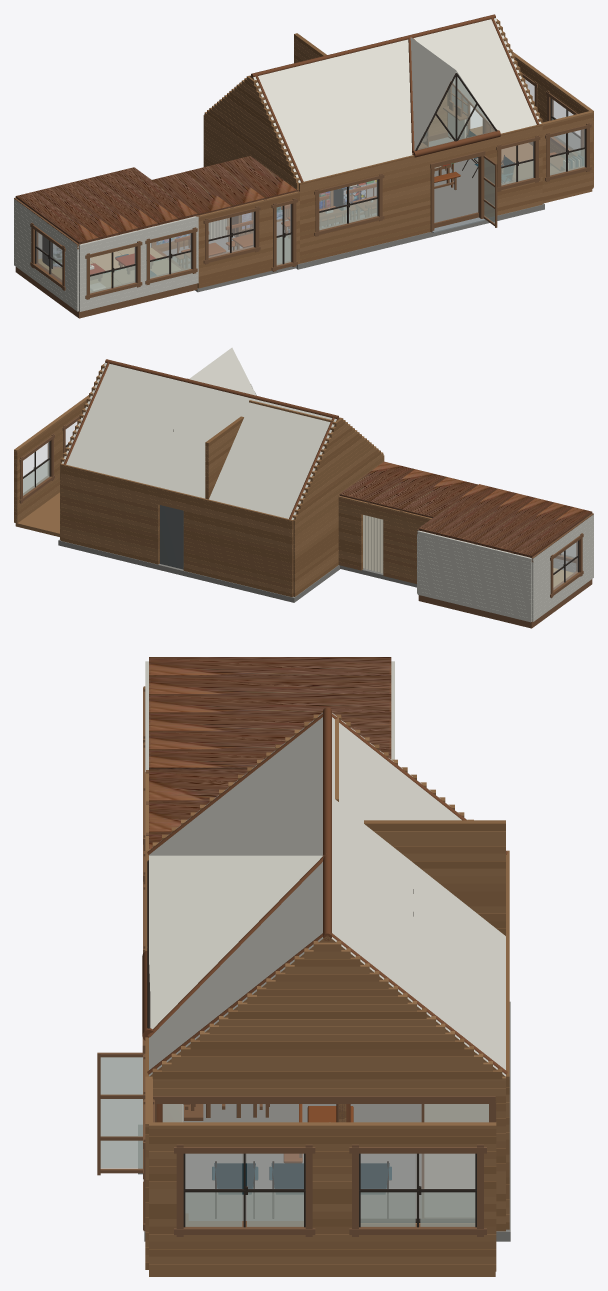
The model's file is yamanoie.glb.
The picture shows the model from 3 angles, top to bottom: view 1: azimuth 30°, elevation 25°; view 2: azimuth 150°, elevation 25°; view 3: azimuth 270°, elevation 25°; orthographic projection. The views are drawn at different scales.
Visible parts, largest first — view 1: web_roof, web_01_MAIN_SHELL, web_08_TATAMI_ROOM, web_03_OPENINGS, web_07_LOW_DINING_BAY, web_14_BLUE_CHAIR_REAR_BAY, web_04_MAIN_FURNITURE, web_05_COUNTER_VISIBLE_KITCHEN; view 2: web_roof, web_01_MAIN_SHELL, web_08_TATAMI_ROOM, web_07_LOW_DINING_BAY, web_14_BLUE_CHAIR_REAR_BAY, web_06_EQUIPMENT_DOOR_AND_SINK; view 3: web_roof, web_14_BLUE_CHAIR_REAR_BAY, web_01_MAIN_SHELL, web_03_OPENINGS, web_04_MAIN_FURNITURE, web_08_TATAMI_ROOM.
Boxes of the visible parts, <box> form: web_roof: <box>14,14,542,249</box>; web_01_MAIN_SHELL: <box>203,85,544,269</box>; web_08_TATAMI_ROOM: <box>14,197,198,318</box>; web_03_OPENINGS: <box>314,73,540,236</box>; web_07_LOW_DINING_BAY: <box>151,191,299,292</box>; web_14_BLUE_CHAIR_REAR_BAY: <box>443,52,593,203</box>; web_04_MAIN_FURNITURE: <box>281,129,514,238</box>; web_05_COUNTER_VISIBLE_KITCHEN: <box>276,182,366,221</box>; web_roof: <box>60,347,593,562</box>; web_01_MAIN_SHELL: <box>58,454,384,602</box>; web_08_TATAMI_ROOM: <box>417,513,593,628</box>; web_07_LOW_DINING_BAY: <box>338,496,431,587</box>; web_14_BLUE_CHAIR_REAR_BAY: <box>14,395,88,536</box>; web_06_EQUIPMENT_DOOR_AND_SINK: <box>159,505,183,569</box>; web_roof: <box>146,657,507,1079</box>; web_14_BLUE_CHAIR_REAR_BAY: <box>143,1076,496,1276</box>; web_01_MAIN_SHELL: <box>144,849,510,1241</box>; web_03_OPENINGS: <box>97,860,350,1179</box>; web_04_MAIN_FURNITURE: <box>162,1104,391,1218</box>; web_08_TATAMI_ROOM: <box>143,661,394,851</box>.
Size of the model in its own units: 17.94 by 5.3 by 6.49.
61 materials, 28 textured.
